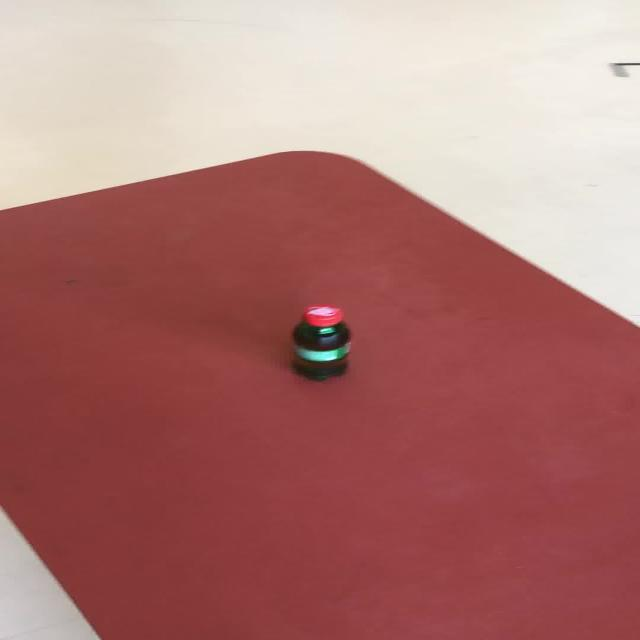guarana: (288, 303, 352, 380)
